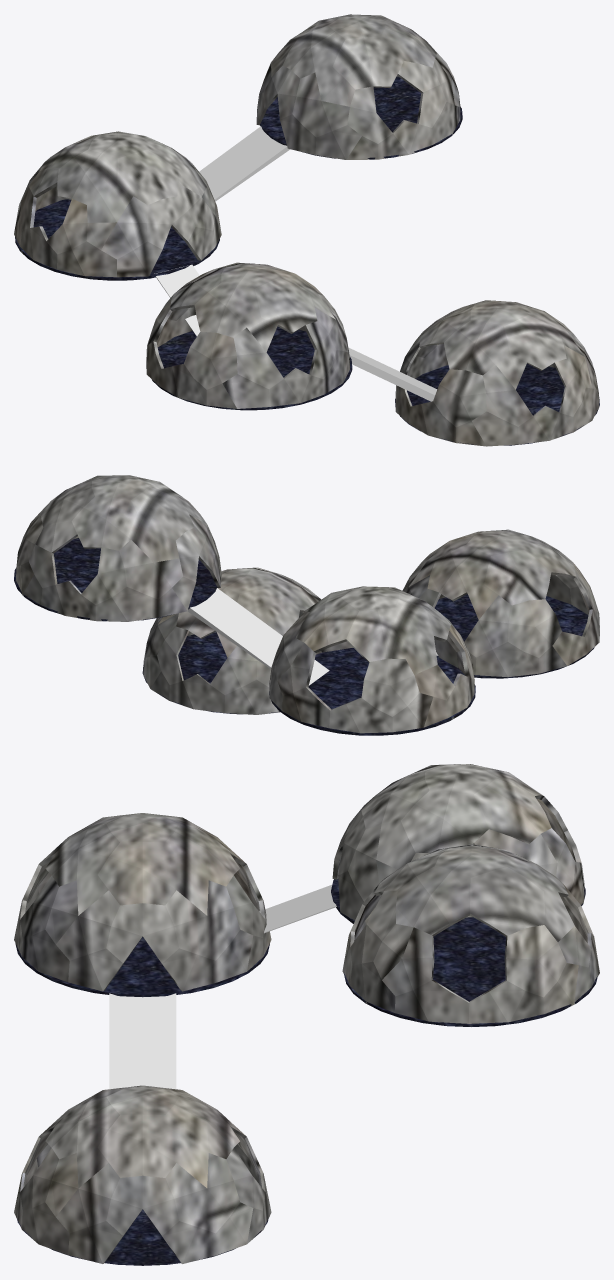
Rendered from castle5.dae.
3 renders of one model, top to bottom at view 1: azimuth 30°, elevation 25°; view 2: azimuth 150°, elevation 25°; view 3: azimuth 270°, elevation 25°, orthographic. The views are drawn at different scales.
Visible parts, largest first — view 1: Cylinder; view 2: Cylinder; view 3: Cylinder.
Part boxes in pixels (box(x1,y1,x2,y2)): Cylinder: box(14, 14, 599, 446); Cylinder: box(14, 475, 599, 735); Cylinder: box(14, 764, 599, 1265).
Size of the model in its own units: 4.55 by 4.33 by 2.93.
Materials: 1 (1 with a texture image).
